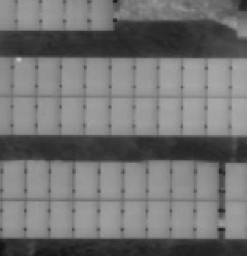solar: (9, 55, 39, 97), (33, 55, 63, 97), (59, 55, 89, 97), (82, 55, 112, 97), (107, 55, 137, 97), (130, 55, 160, 97), (155, 55, 185, 97), (179, 56, 209, 98), (203, 56, 233, 98), (203, 94, 233, 136), (178, 94, 208, 136), (154, 94, 184, 136), (130, 94, 160, 136), (106, 94, 136, 136), (82, 94, 112, 136), (57, 94, 87, 136), (33, 94, 63, 136), (8, 94, 38, 136), (23, 158, 53, 200), (46, 158, 76, 200), (71, 158, 101, 200), (96, 158, 126, 200), (120, 158, 150, 200), (144, 158, 174, 200), (167, 158, 197, 200), (192, 159, 222, 201), (191, 197, 221, 239), (167, 197, 197, 239), (143, 197, 173, 239), (119, 197, 149, 239), (95, 197, 125, 239), (71, 197, 101, 239), (46, 197, 76, 239), (22, 197, 52, 239), (1, 197, 30, 239), (1, 157, 28, 199)
